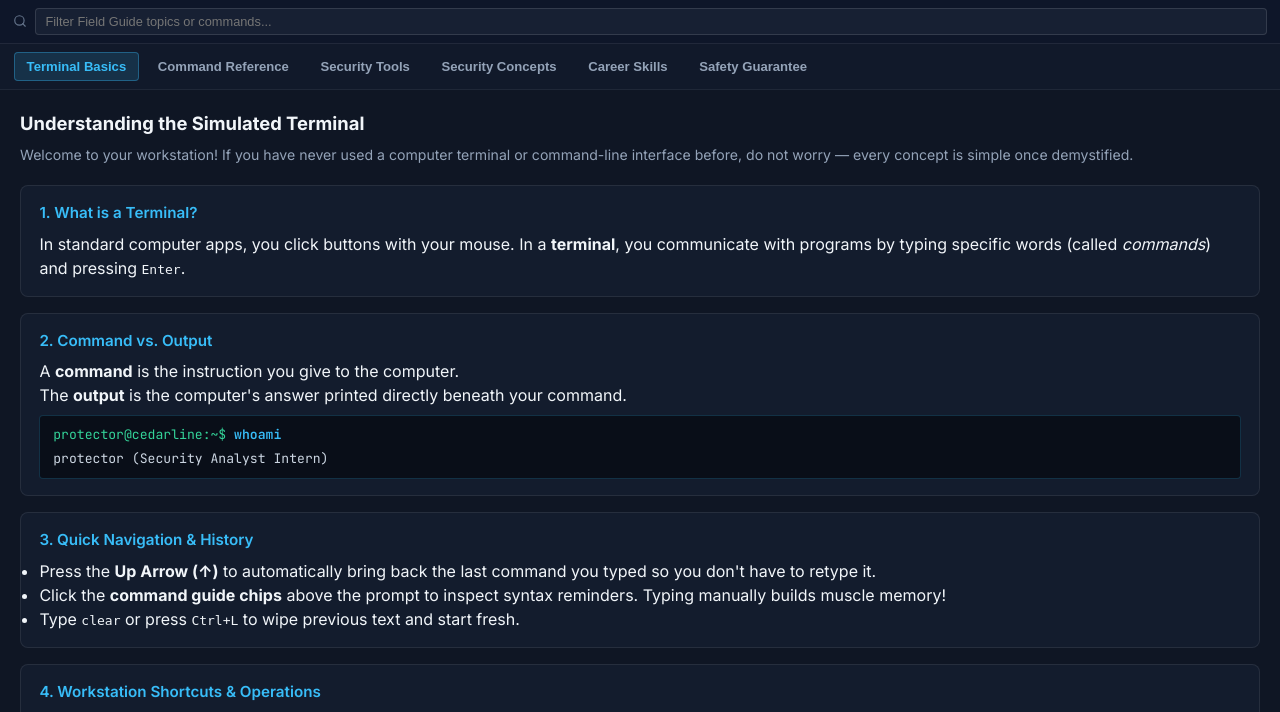
Test: FieldGuideApp Component › switches to Command Reference tab and displays all standard and cyber tools
Click the tab with test id "guide-tab-commands" at (223, 66), box [145,52,302,81]
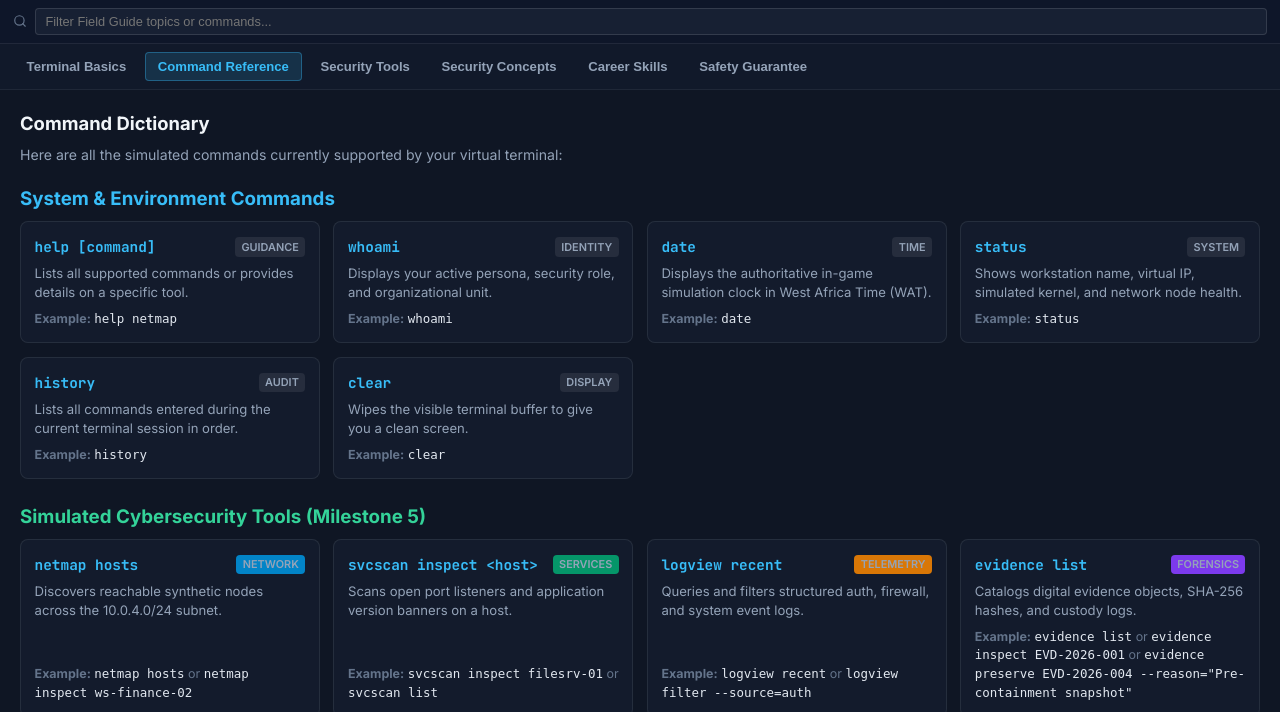
Now the heading "Command Dictionary" is shown, box [20,112,210,134]
Now the text "whoami" in the row of "Identity" is shown, box [348,237,400,256]
Now the 1st text "status" is shown, box [975,236,1027,258]
